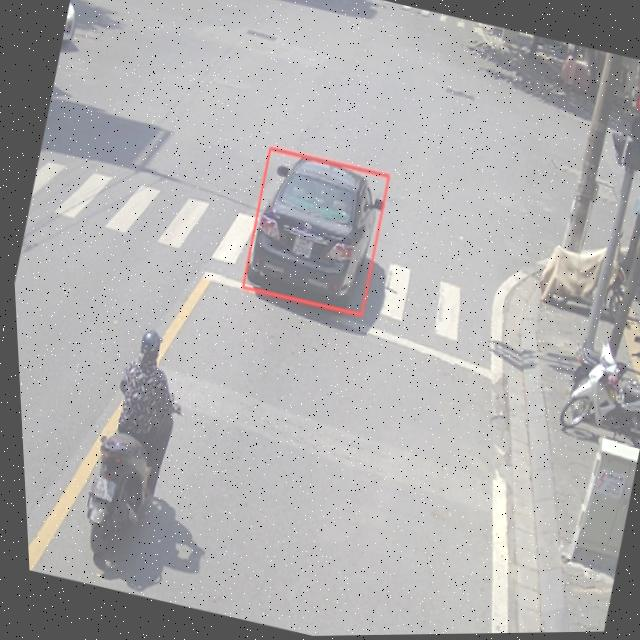Red: (617, 63, 640, 174)
